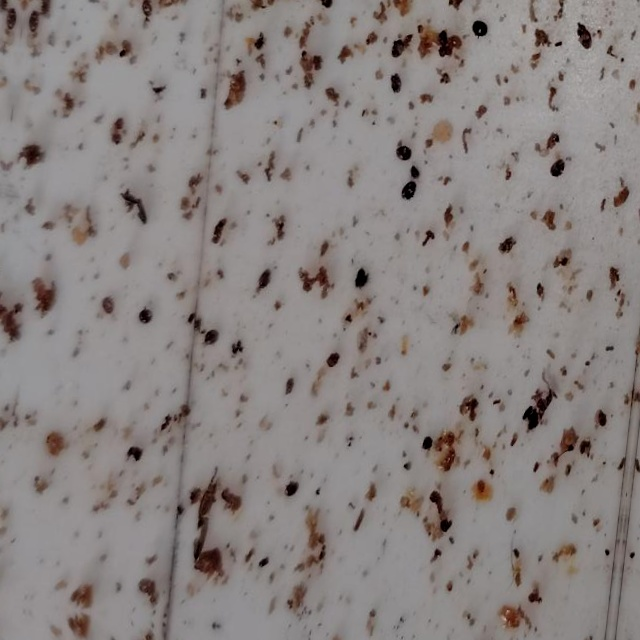varroa: (464, 16, 489, 45), (572, 19, 593, 53), (253, 263, 272, 296), (544, 157, 563, 185), (25, 8, 42, 37), (395, 182, 416, 204), (278, 479, 298, 502), (200, 328, 220, 351), (391, 143, 412, 164), (134, 306, 154, 328), (385, 71, 402, 96), (593, 406, 610, 430), (322, 352, 341, 372), (387, 38, 404, 59)
